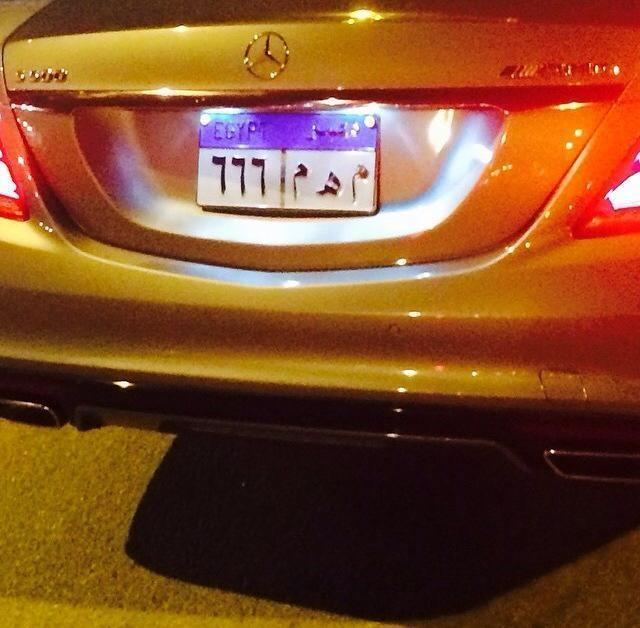6: (207, 152, 228, 199), (248, 154, 270, 197), (228, 152, 248, 197)
Heeh: (315, 162, 342, 203)
License Plate: (194, 110, 380, 214)
Meem: (349, 160, 371, 204), (288, 157, 310, 200)
